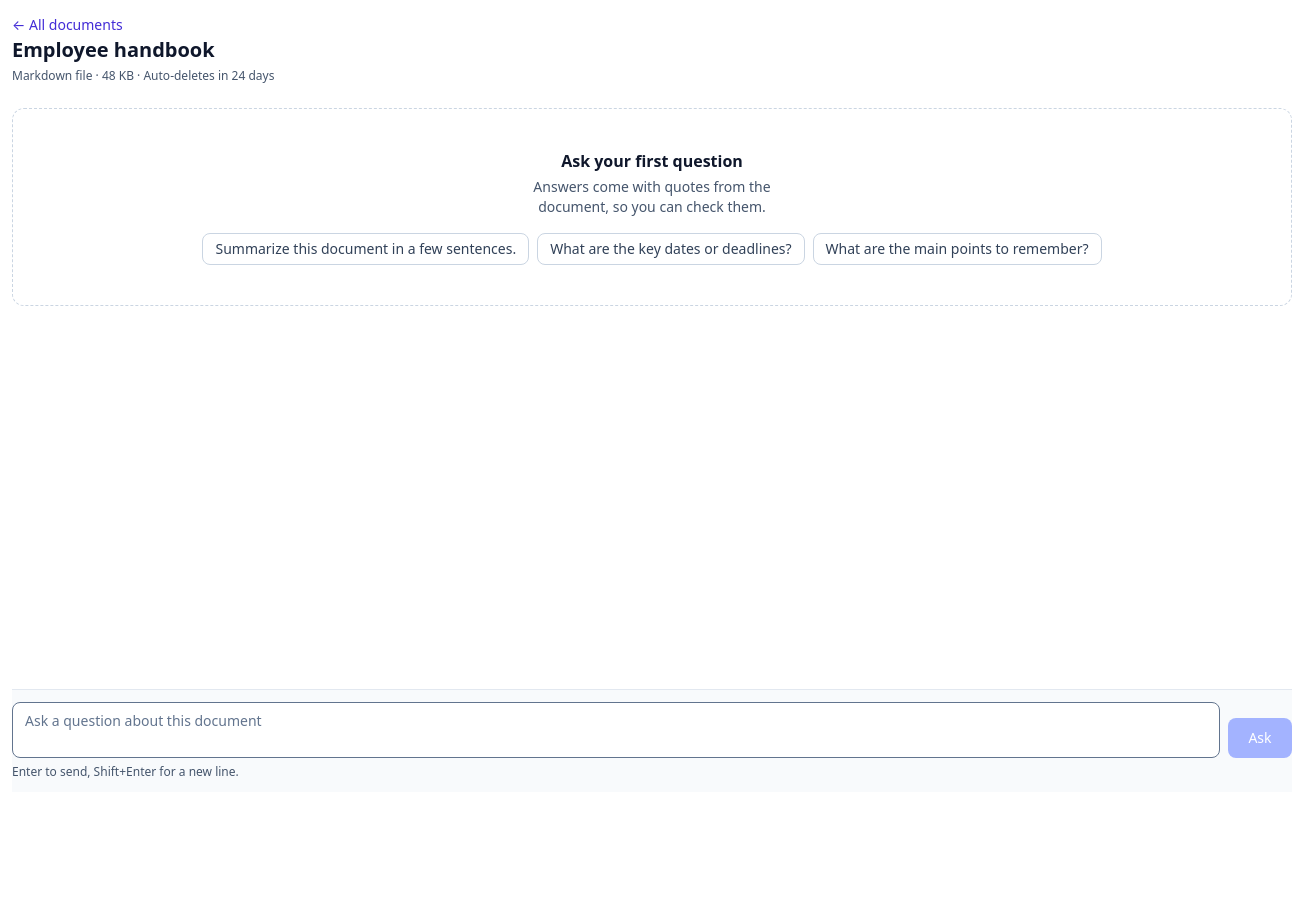
it: ChatView: when something goes wrong › explains a refusal with how long to wait, keeps the question, and can try again or dismiss
Type "How many vacation days do I get?" into the text box named "Your question" at [616, 730], box [12,702,1220,758]
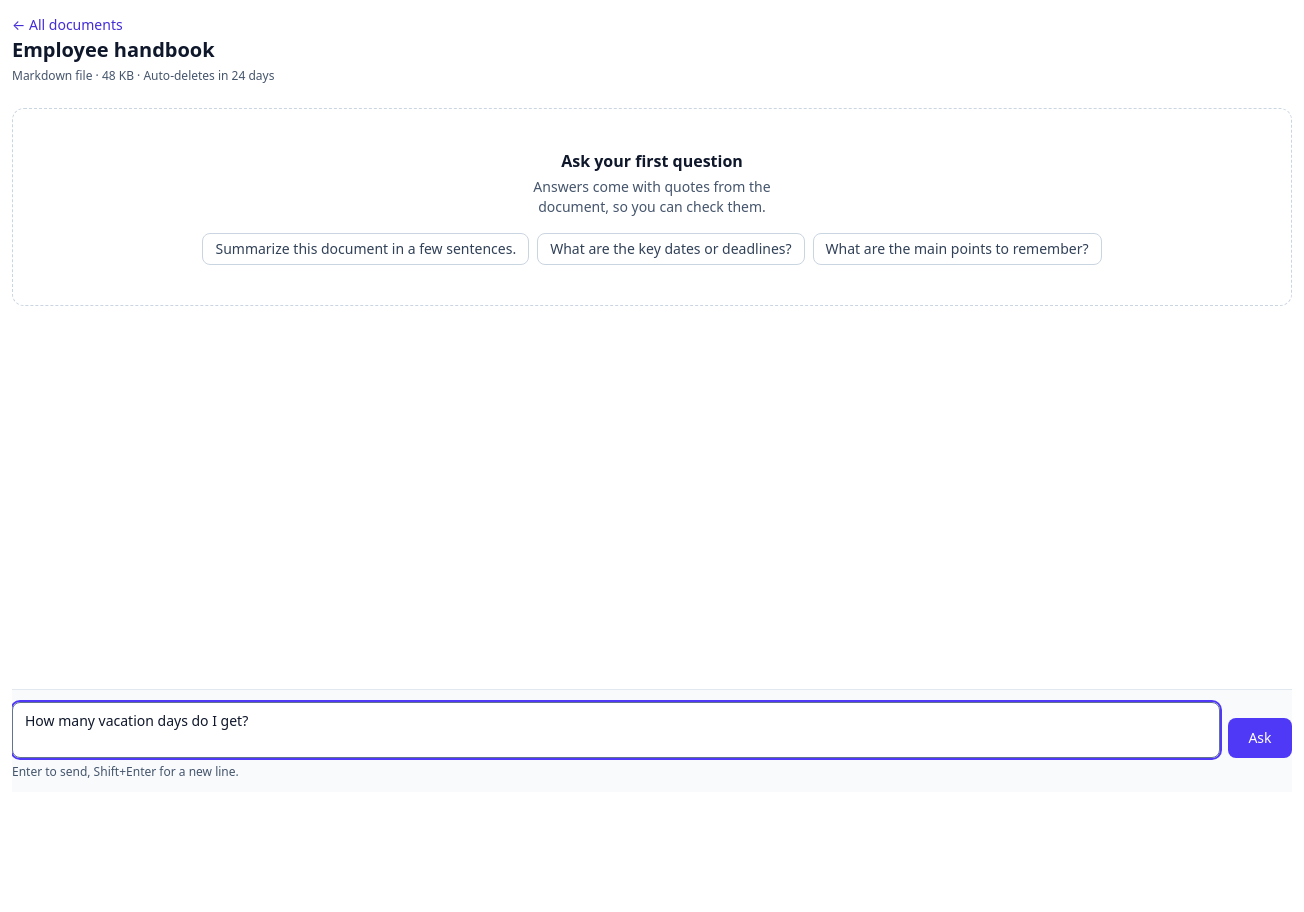
Press Enter
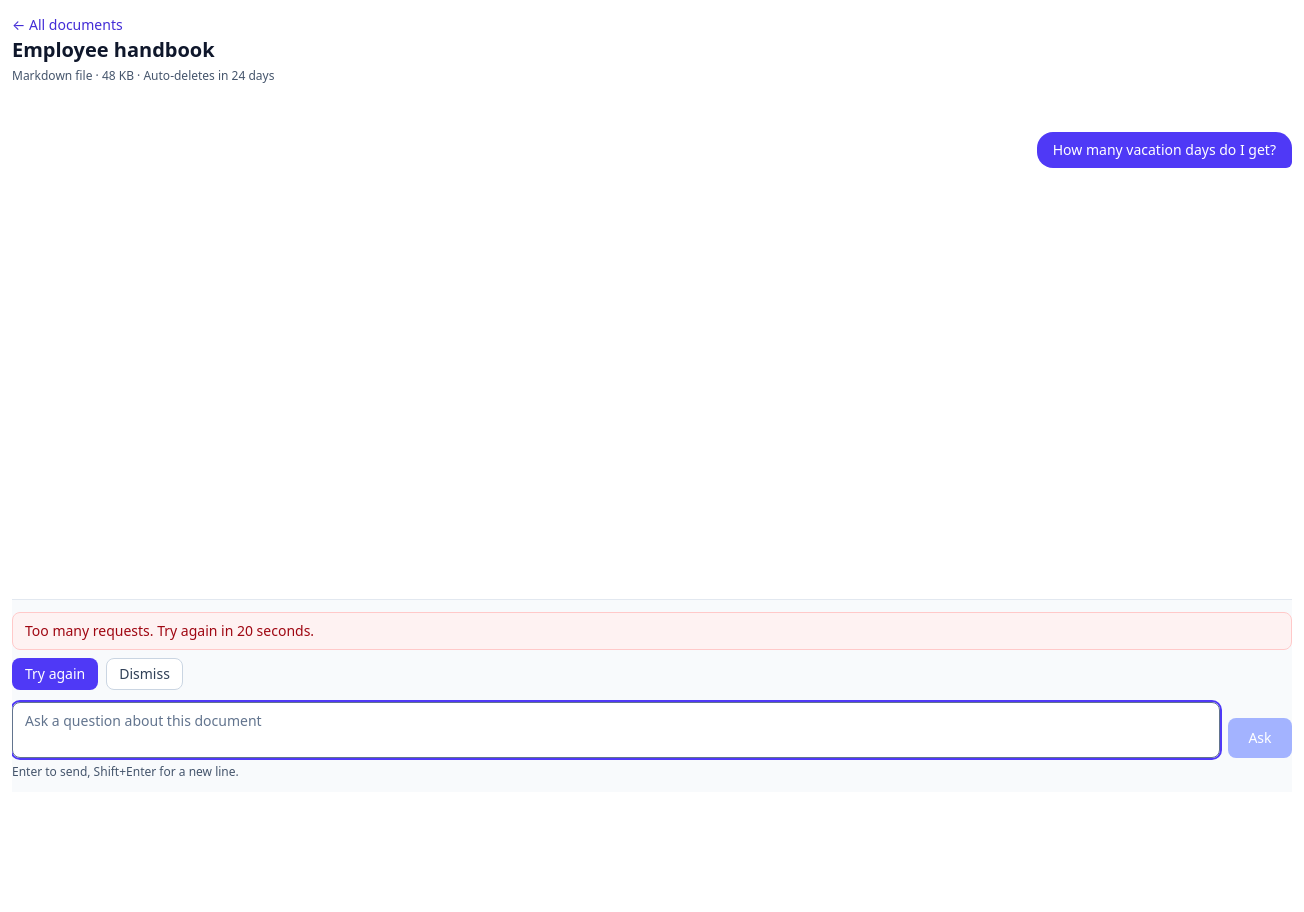
Expected: the text box named "Your question" is enabled, [12,702,1220,758]
Expected: the message reads "Too many requests. Try again in 20 seconds.", [25,621,314,640]
Expected: the text "How many vacation days do I get?" is shown, [1037,132,1292,168]
Click the button "Try again" at [55, 674], box [12,658,98,690]
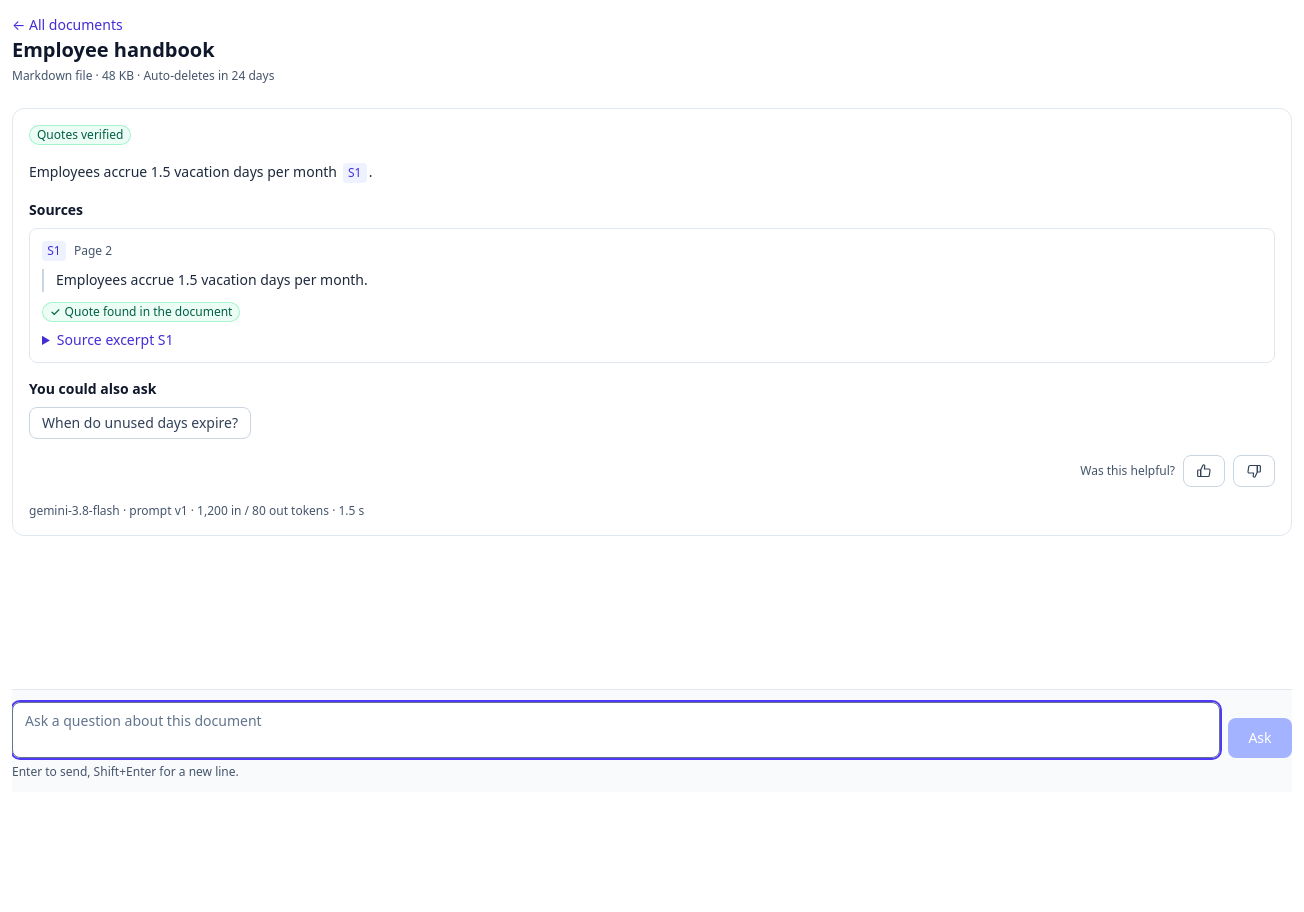
Expected: the element named "Answer" is shown, [12,108,1292,536]
Expected: the message "Too many requests. Try again in 20 seconds." is gone
